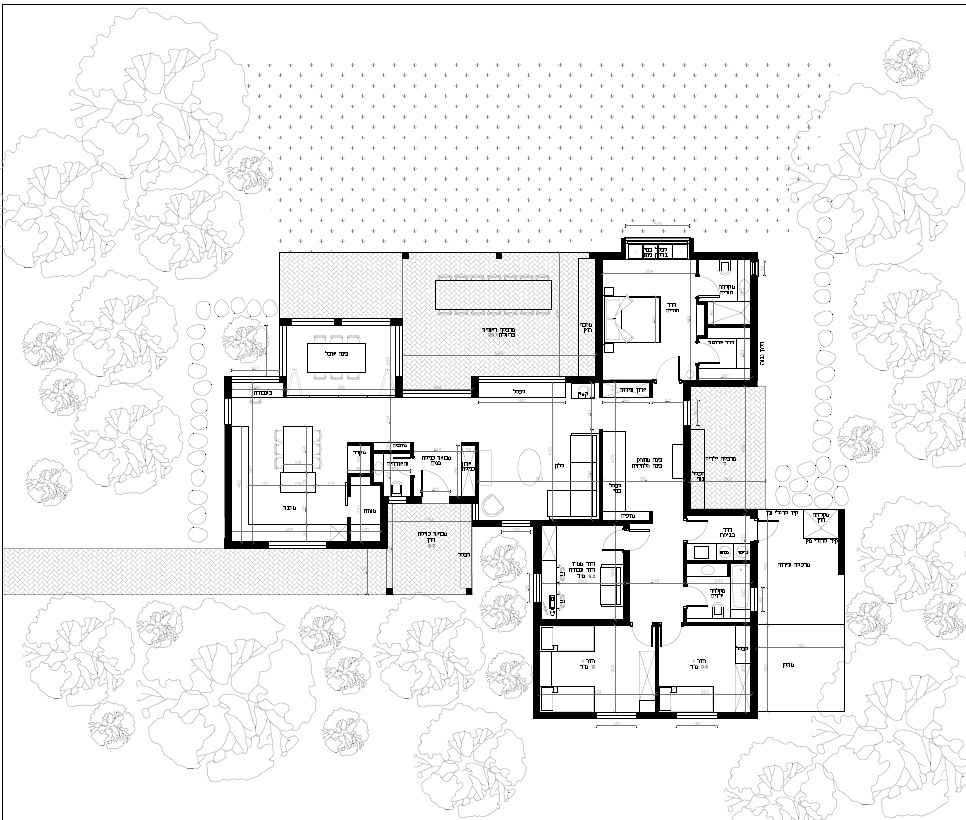wall: (597, 254, 602, 378), (752, 617, 758, 715), (750, 279, 756, 370), (533, 609, 538, 713), (226, 428, 230, 547), (694, 253, 756, 259), (690, 381, 742, 387), (535, 523, 541, 570), (685, 429, 690, 478), (688, 510, 738, 514), (338, 543, 382, 547), (559, 520, 591, 525)
window: (268, 537, 327, 553), (625, 233, 690, 247), (478, 374, 567, 384), (402, 388, 473, 399), (394, 325, 405, 378), (277, 325, 288, 377), (340, 317, 392, 328), (231, 373, 280, 384), (595, 710, 638, 722), (676, 710, 719, 721), (290, 317, 335, 327), (531, 572, 545, 604), (220, 397, 235, 426), (500, 517, 532, 529), (747, 586, 760, 613)
